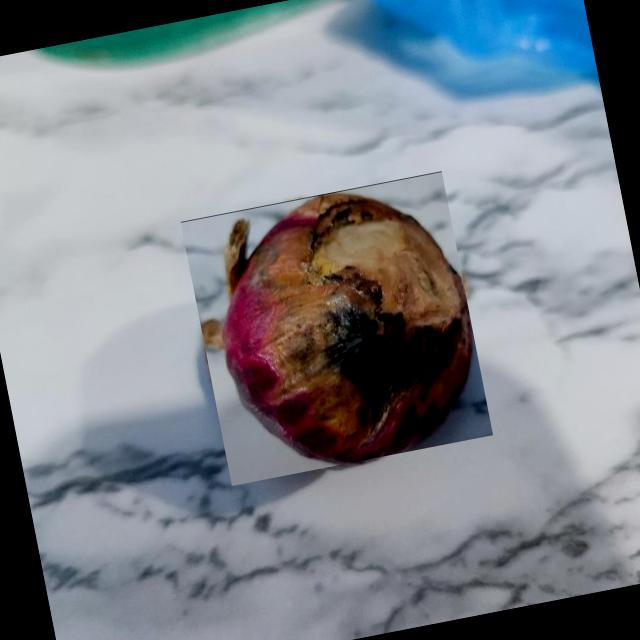rotten: (201, 193, 472, 463)
